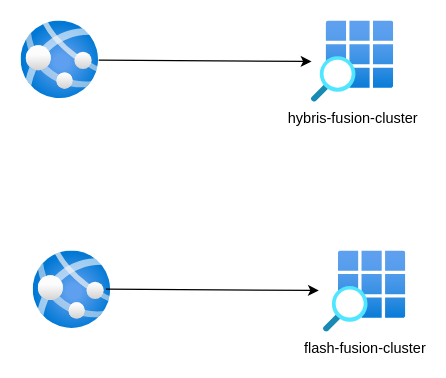
The diagram is 446 pixels wide and 378 high, and some of its shapes have lost their labels. Each missing label, with the box of its shape:
flash: (33, 250, 110, 328)
hybris: (21, 21, 98, 98)
